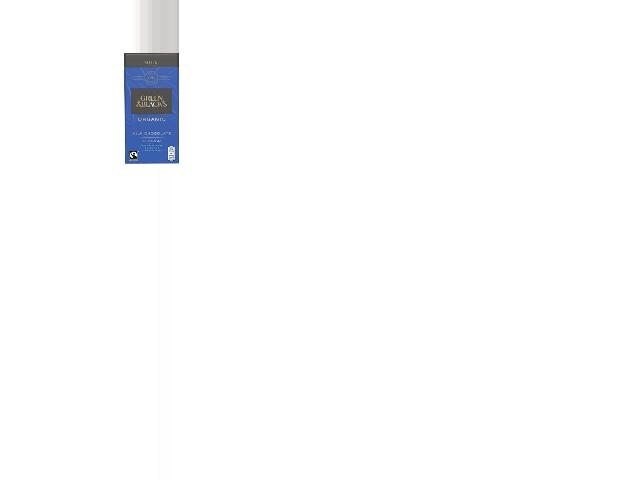chocolate: (123, 53, 180, 162)
